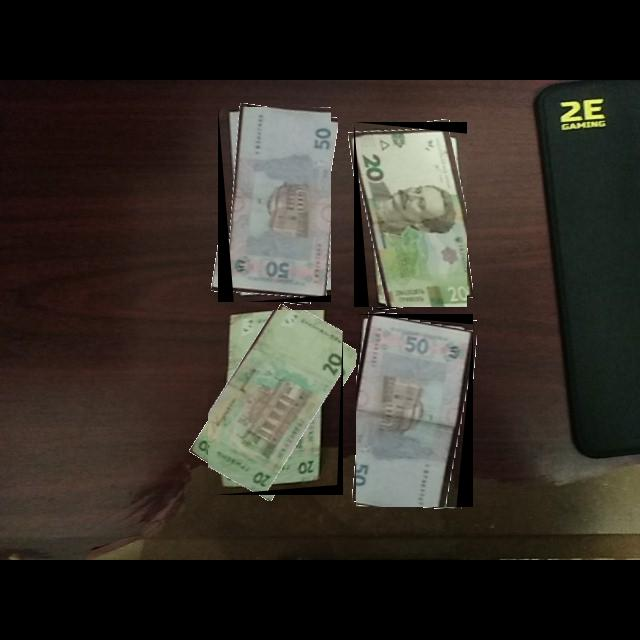20uah: (208, 310, 344, 496), (354, 122, 468, 308)
50uah: (356, 314, 474, 508), (218, 107, 332, 303)
